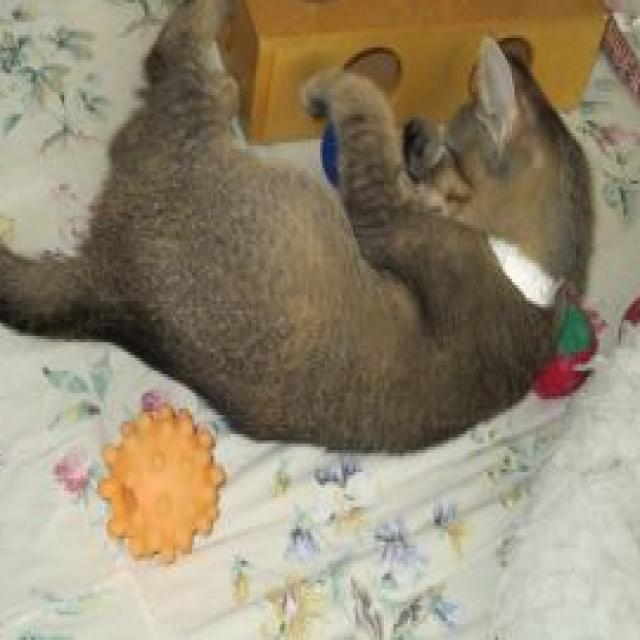Abyssinian: (0, 0, 600, 466)
